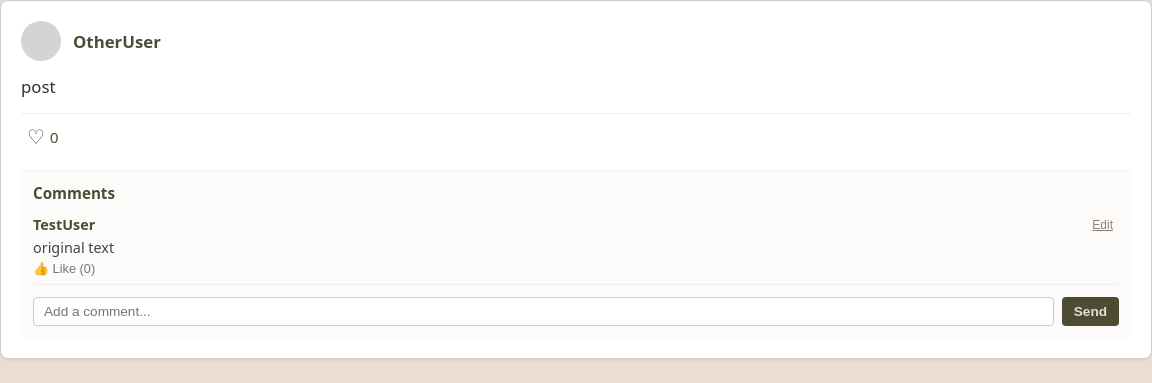
Test: Post component › allows editing a comment and saving the new text
Click the button "Edit" at (1103, 225), box [1086,217,1119,233]
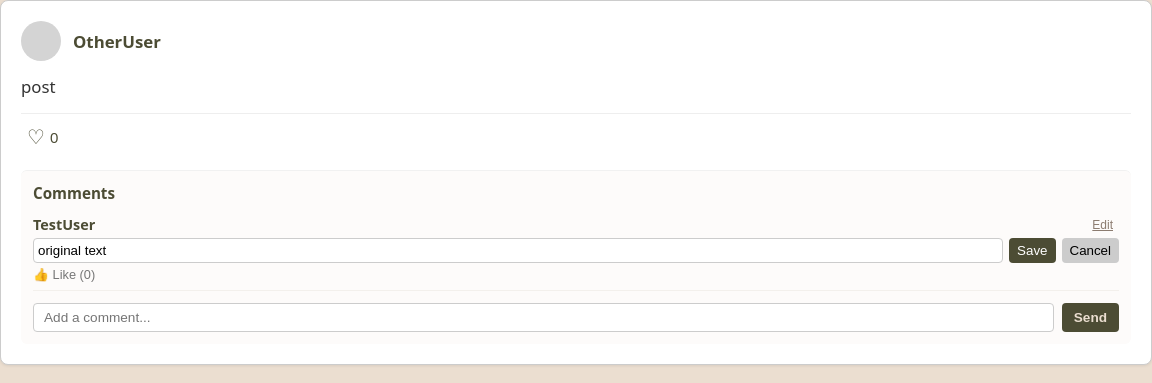
Replace the text in the field showing "original text" with "updated text" at (518, 251), box [33,238,1003,263]
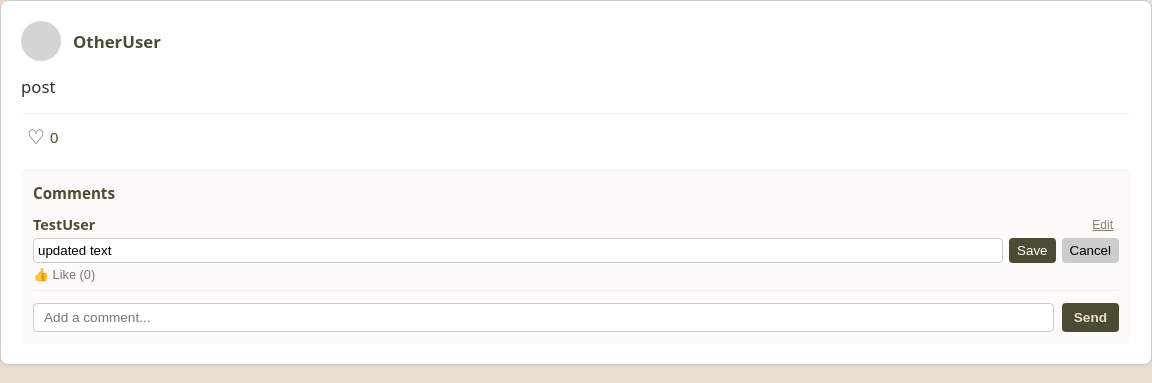
Click the button "Save" at (1032, 251), box [1009,238,1056,263]
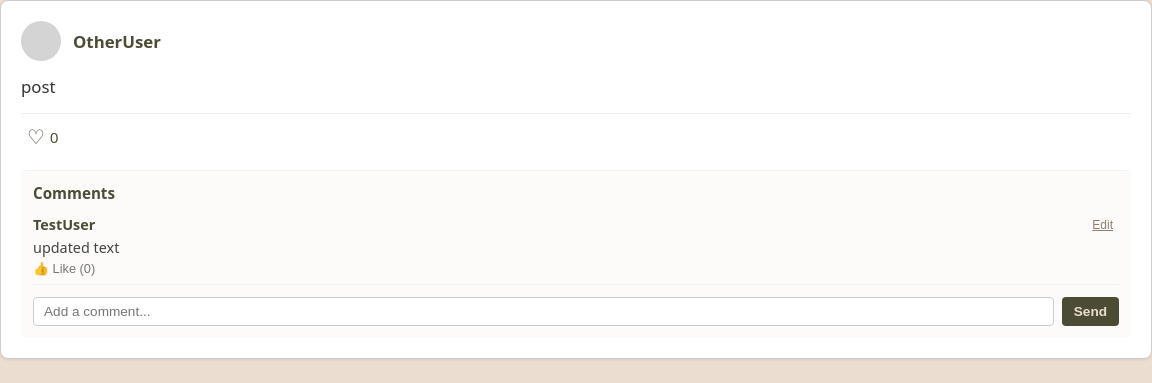
Check: the text "updated text" is shown, box [33,238,119,257]
